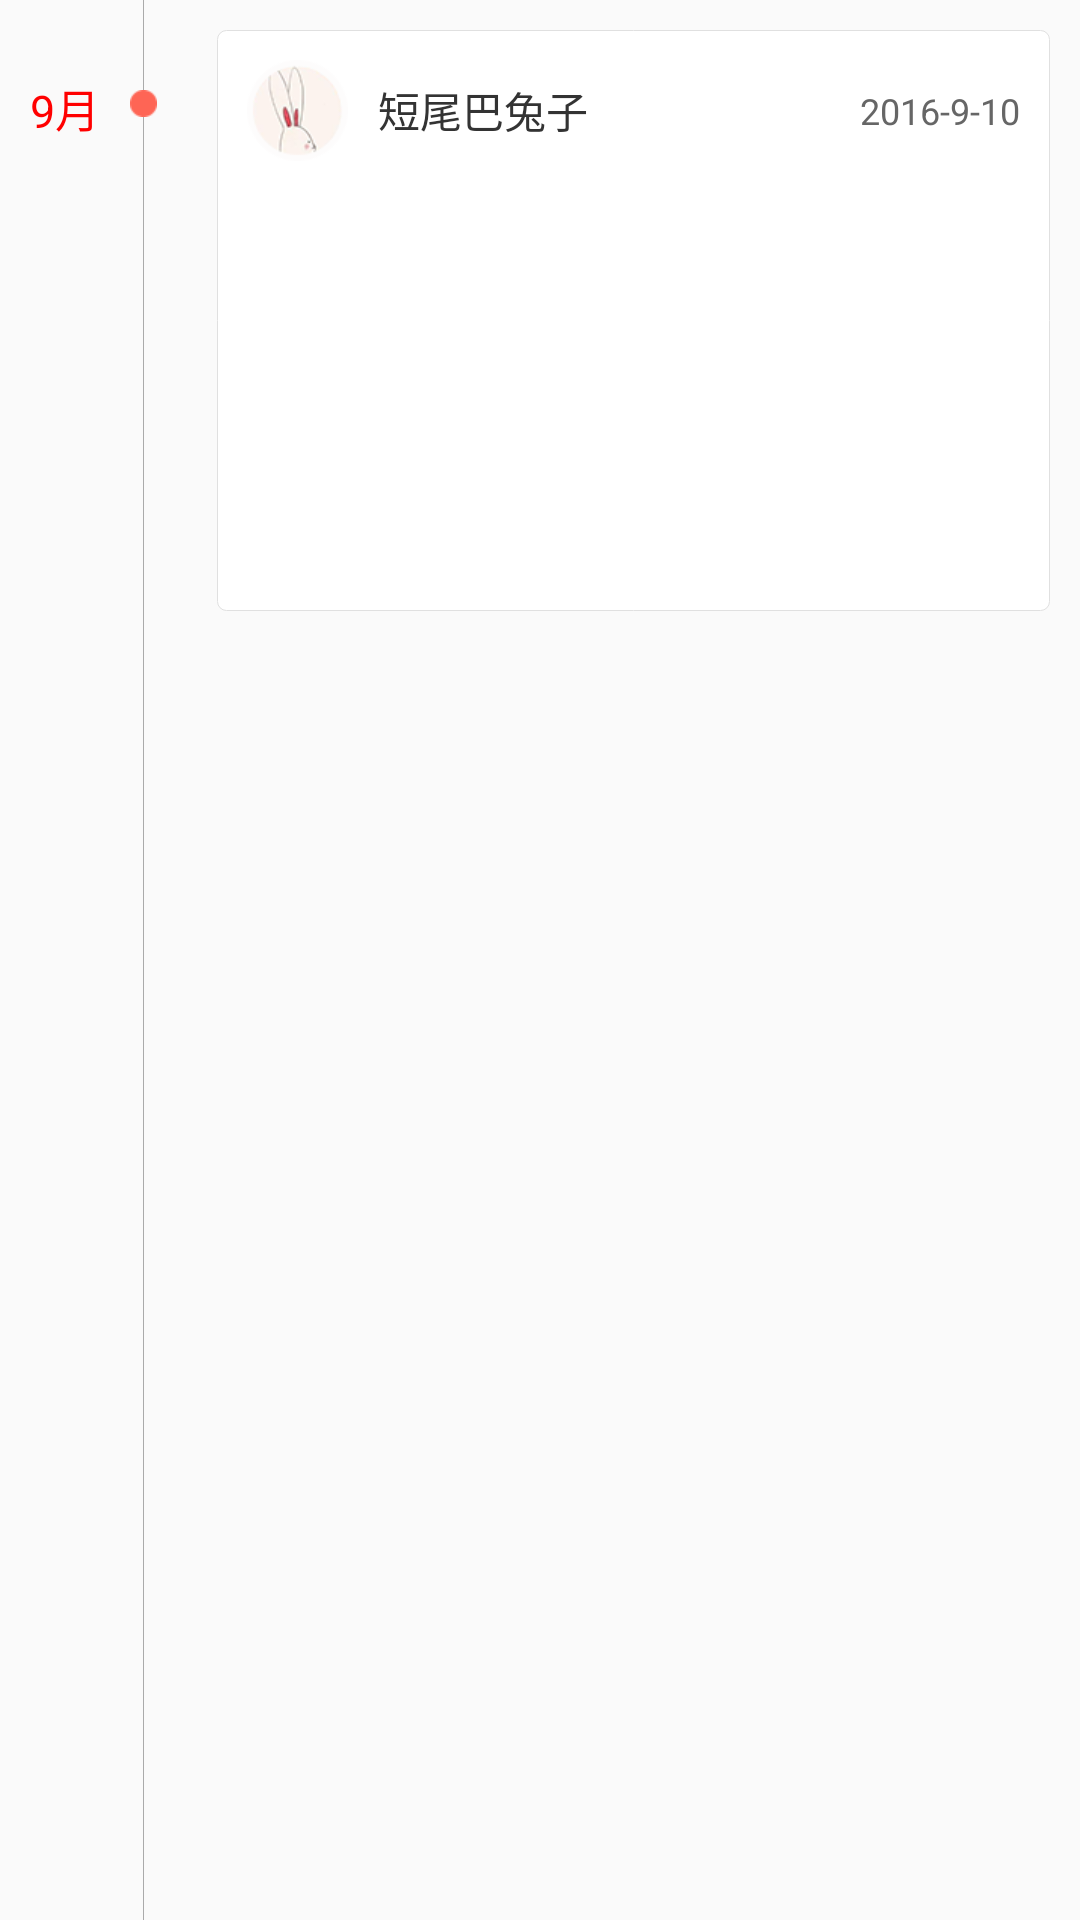

Point at icon controls on the screen. Image size 1080×1920, points as point (x, y).
album member: point (297, 110)
